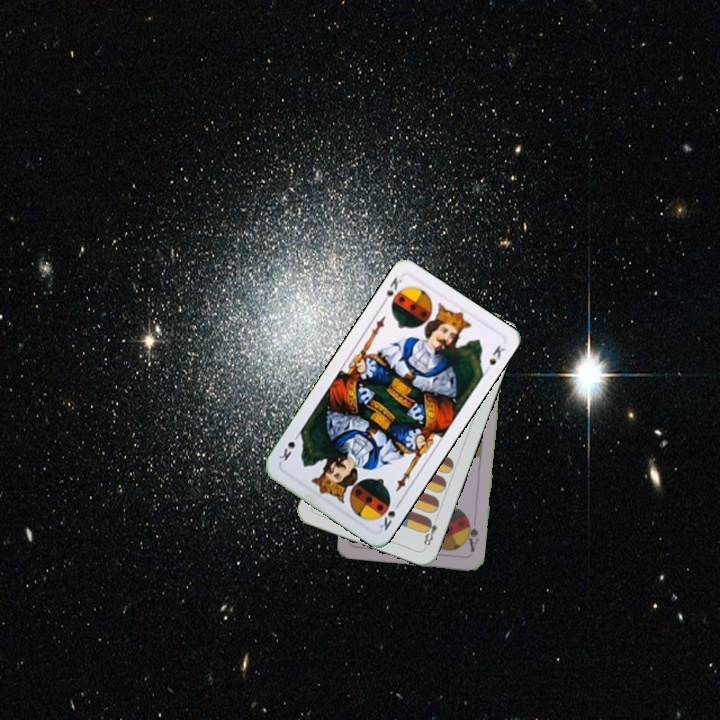E8: (419, 514, 440, 551)
SA: (462, 514, 481, 555)
SK: (377, 273, 407, 310), (375, 497, 403, 533)
